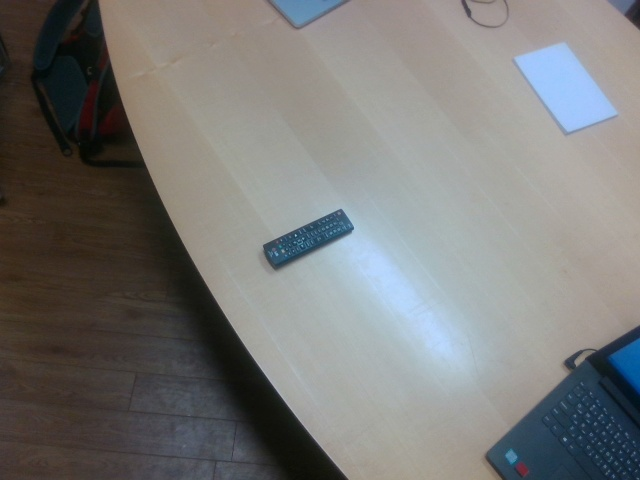remote: (264, 209, 355, 270)
